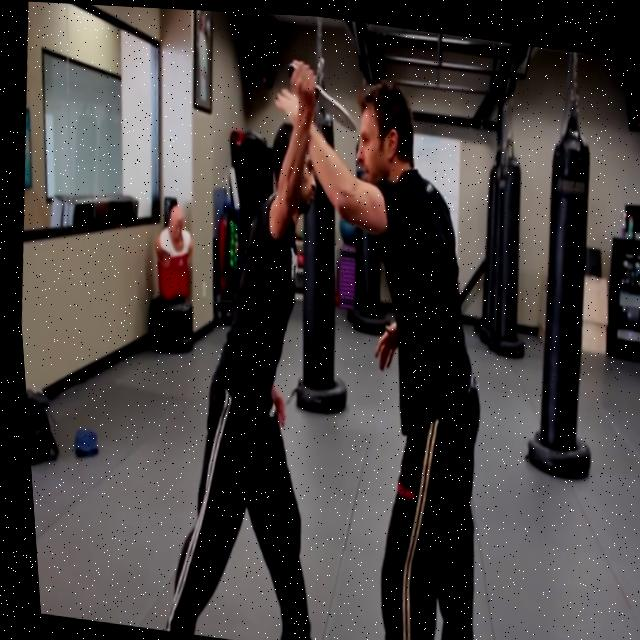knife: (309, 77, 359, 136)
